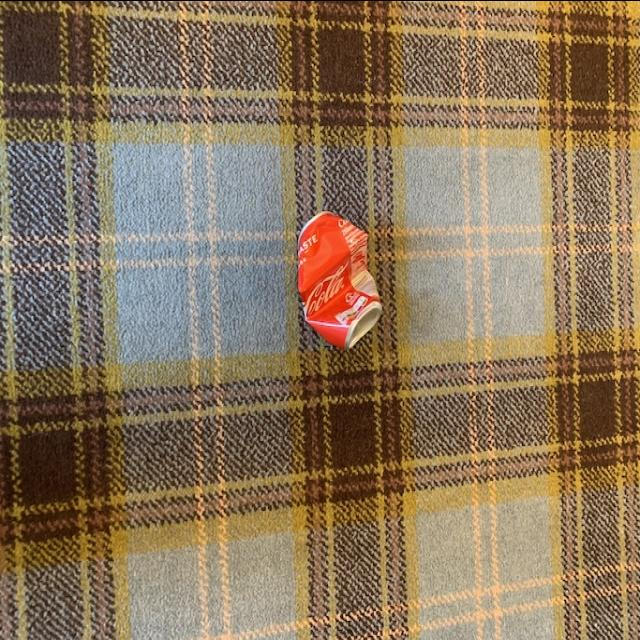Aluminum Can: (294, 204, 386, 350)
